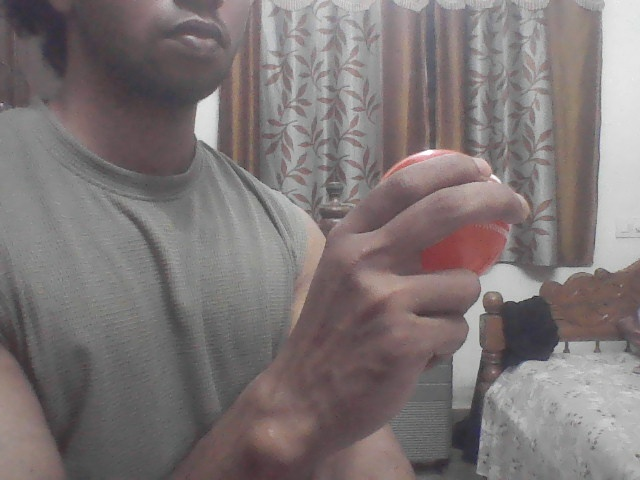cricket_ball: (380, 148, 513, 279)
